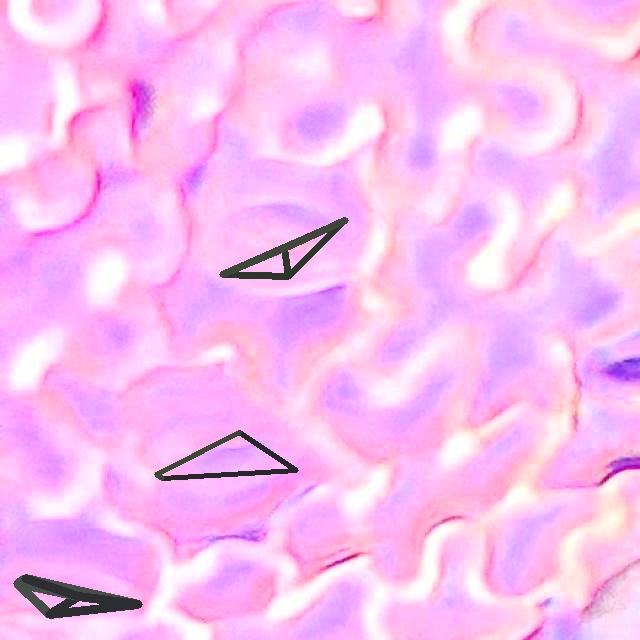close: (154, 431, 297, 480)
open: (220, 218, 347, 278), (13, 574, 142, 618)
